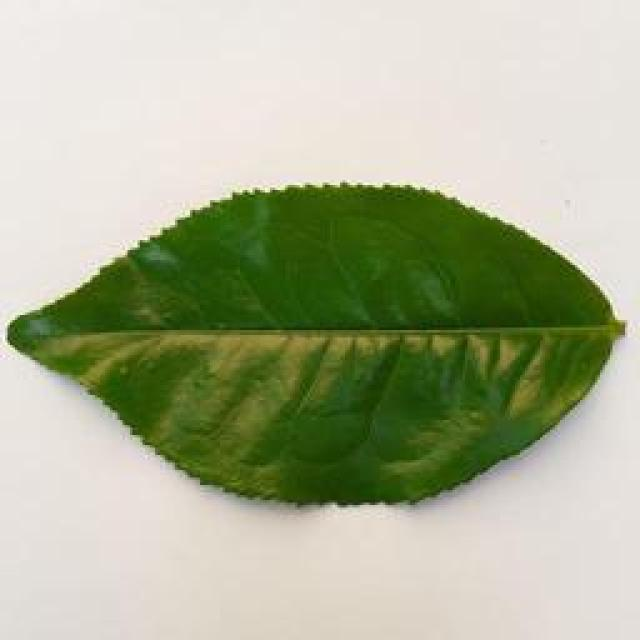Healthy: (10, 180, 612, 510)
